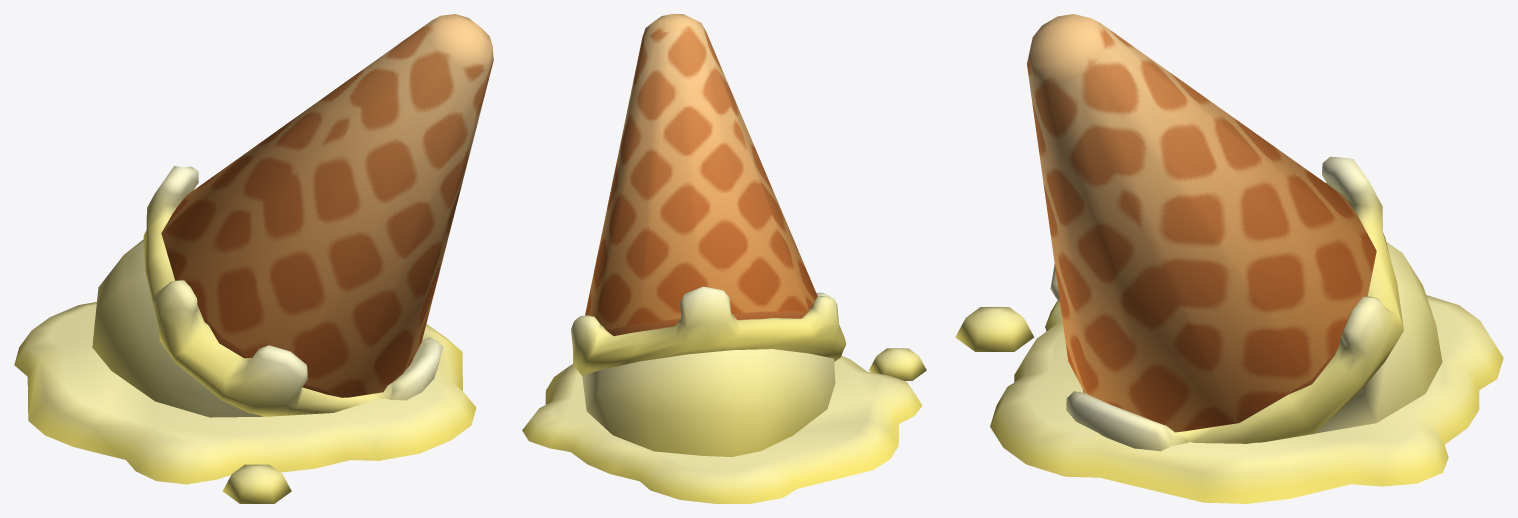
Rendered from m_SpilledIceCream02.fbx.
3 renders of one model, left to right at view 1: azimuth 30°, elevation 25°; view 2: azimuth 150°, elevation 25°; view 3: azimuth 270°, elevation 25°, orthographic. The views are drawn at different scales.
Parts seen in each view (by area): view 1: m_SpilledIceCream02; view 2: m_SpilledIceCream02; view 3: m_SpilledIceCream02.
Part boxes in pixels (x1,y1,x2,y2): m_SpilledIceCream02: (14,14,493,503); m_SpilledIceCream02: (522,14,926,503); m_SpilledIceCream02: (955,14,1503,503).
Bounding box in the file's own units: 12.21 × 11.36 × 12.68.
